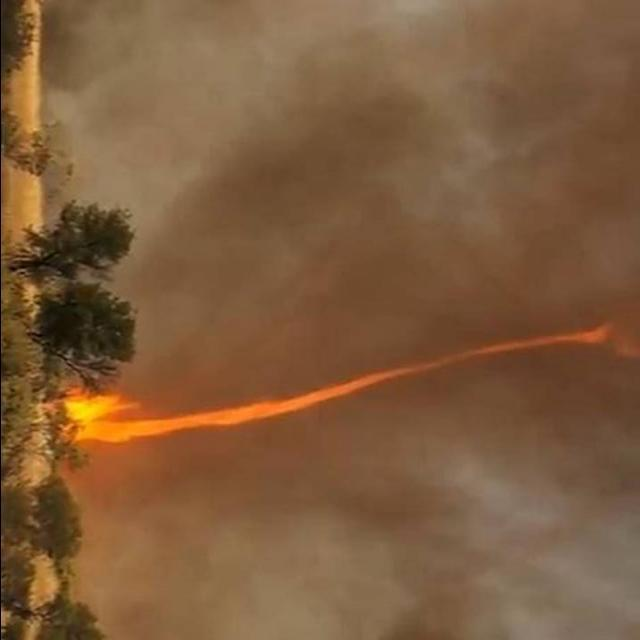Fire: (64, 324, 628, 482)
